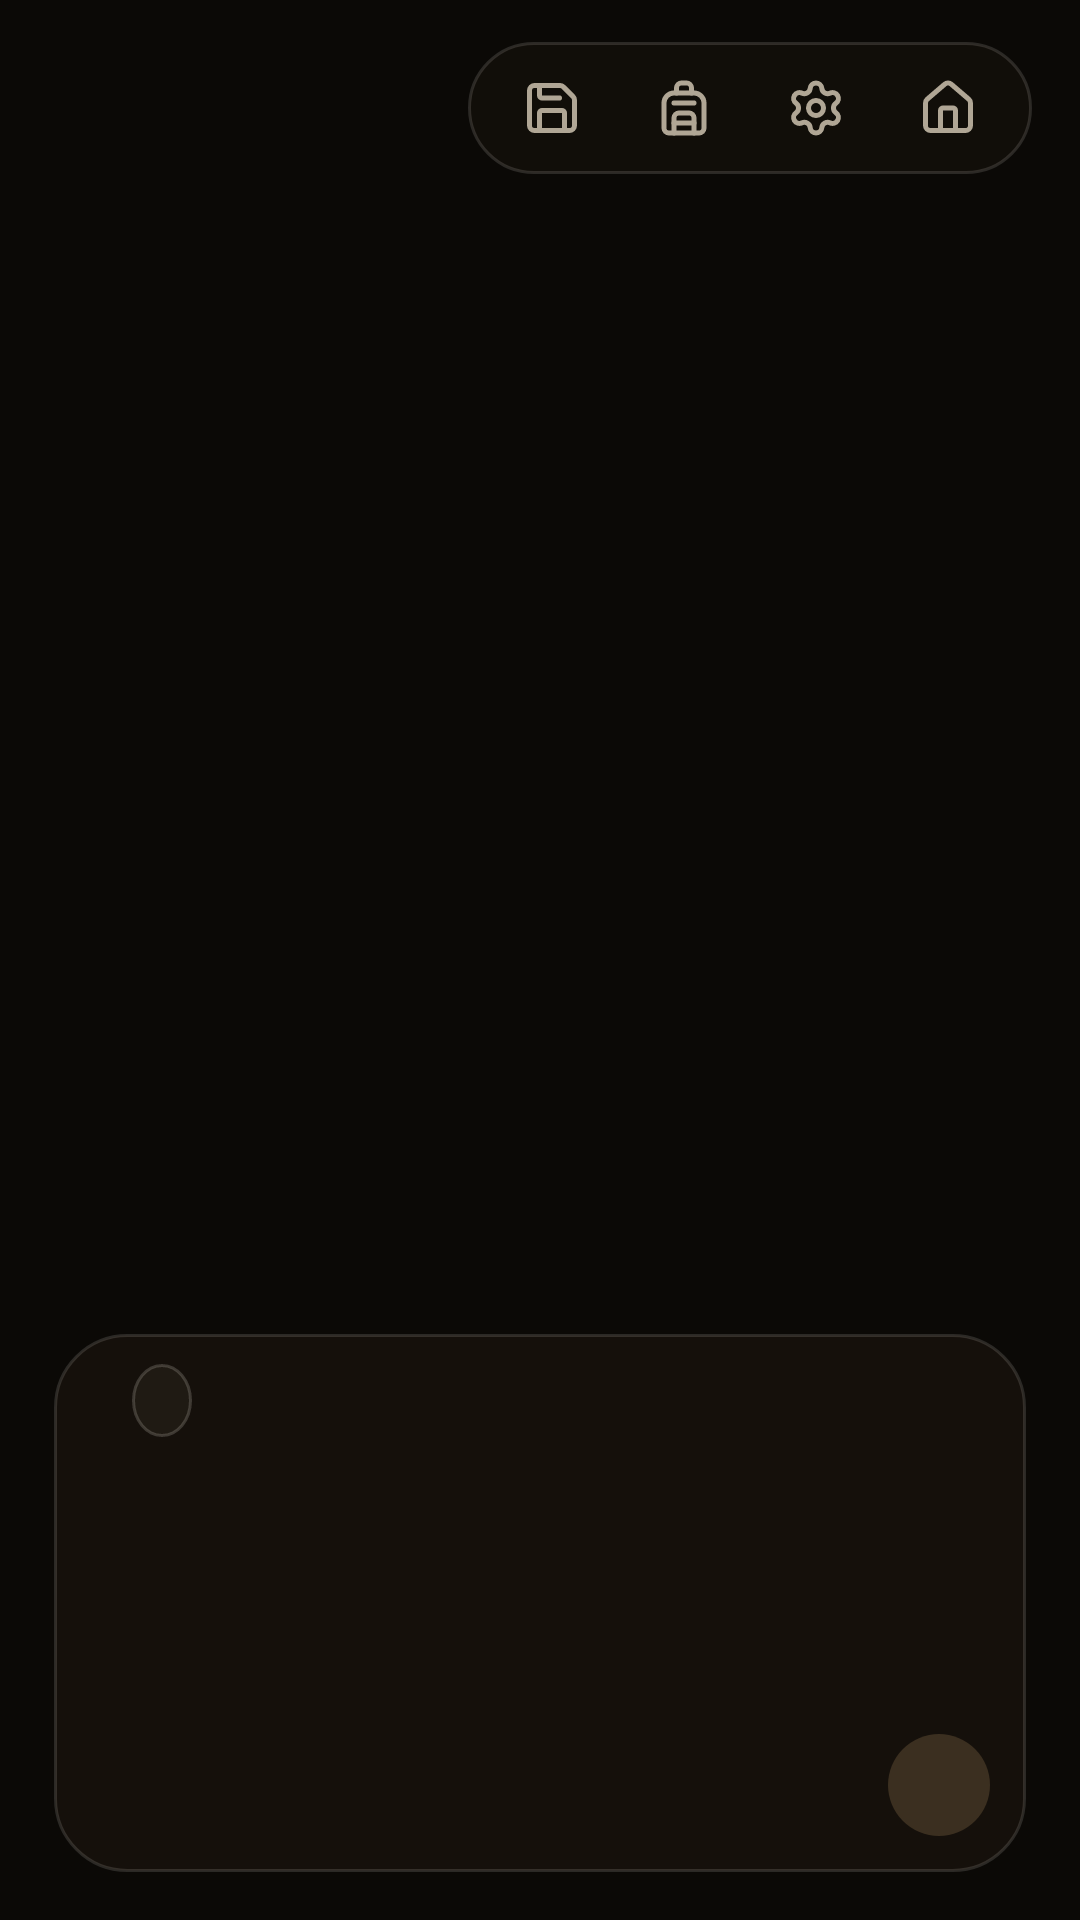

Point at icon controls on the screen. Image size 1080x1920, points as (x,y).
大厅: (948,106)
存档: (552,108)
物品: (684,108)
设置: (816,108)
